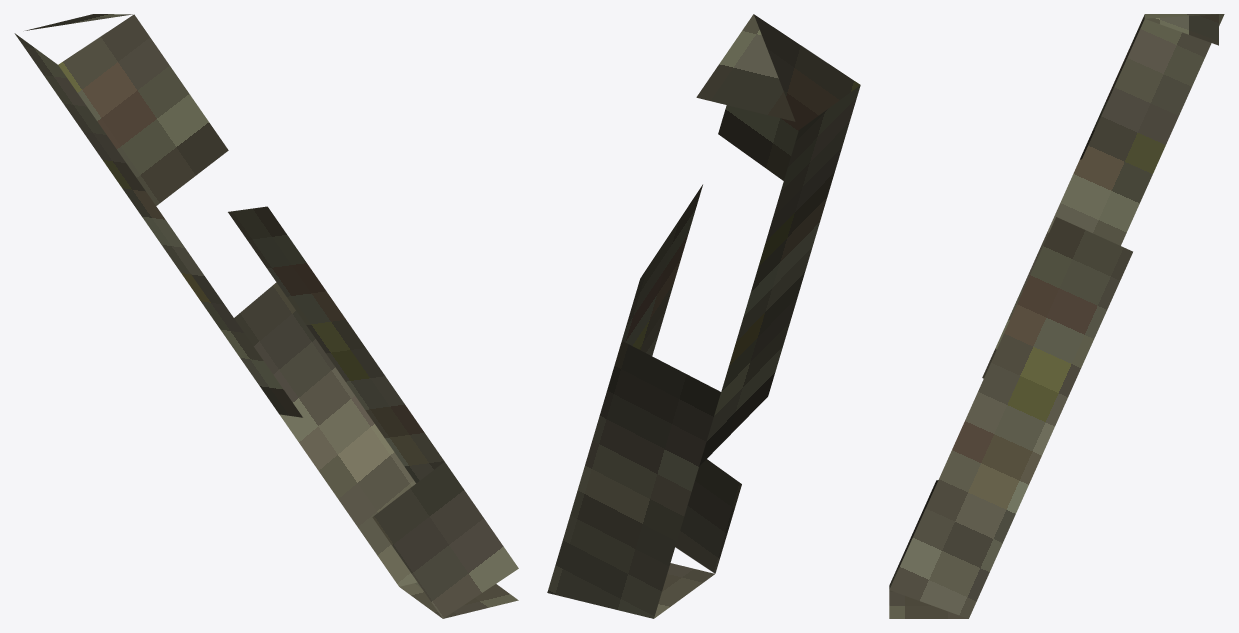
File: larch_thin_branch_22.5_diagonal.obj
3 renders of one model, left to right at view 1: azimuth 30°, elevation 25°; view 2: azimuth 150°, elevation 25°; view 3: azimuth 270°, elevation 25°, orthographic. The views are drawn at different scales.
Visible parts, largest first — view 1: cube_selection; view 2: cube_selection; view 3: cube_selection.
Boxes of the visible parts, x1=… form: cube_selection: x1=14, y1=14, x2=518, y2=618; cube_selection: x1=547, y1=14, x2=860, y2=618; cube_selection: x1=889, y1=14, x2=1224, y2=618.
Size of the model in its own units: 1.31 by 2.12 by 1.31.
